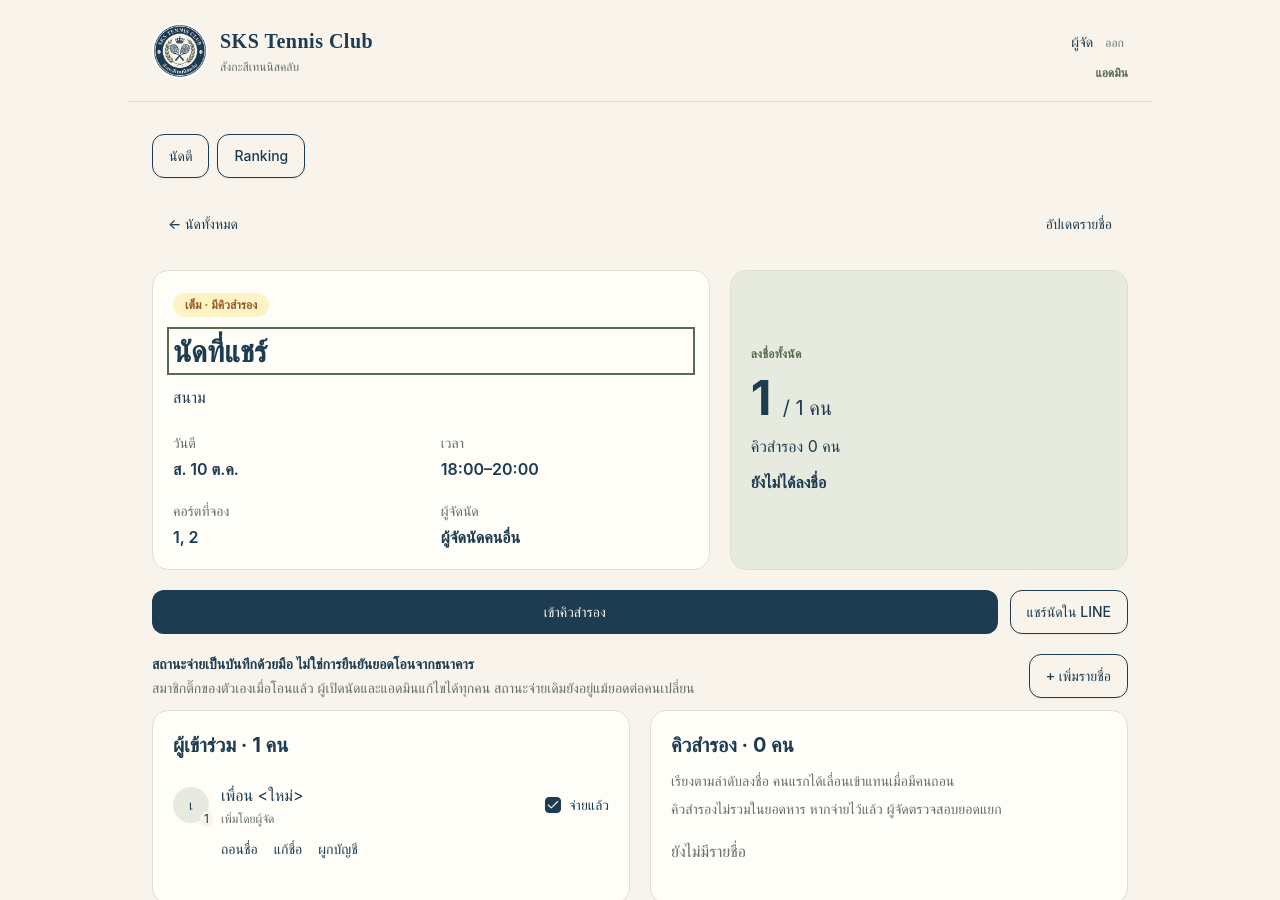
Test case: admins see their role and can manage other organizers' payments while respecting ended events (false)
This screenshot has width=1280, height=900.
Expected: the heading "นัดที่แชร์" is shown, [173,333,267,369]
Expected: the text "แอดมิน" is shown, [1096,65,1128,80]
Click the checkbox named "จ่ายแล้ว: เพื่อน <ใหม่>" at (553, 805), box [545,797,561,813]
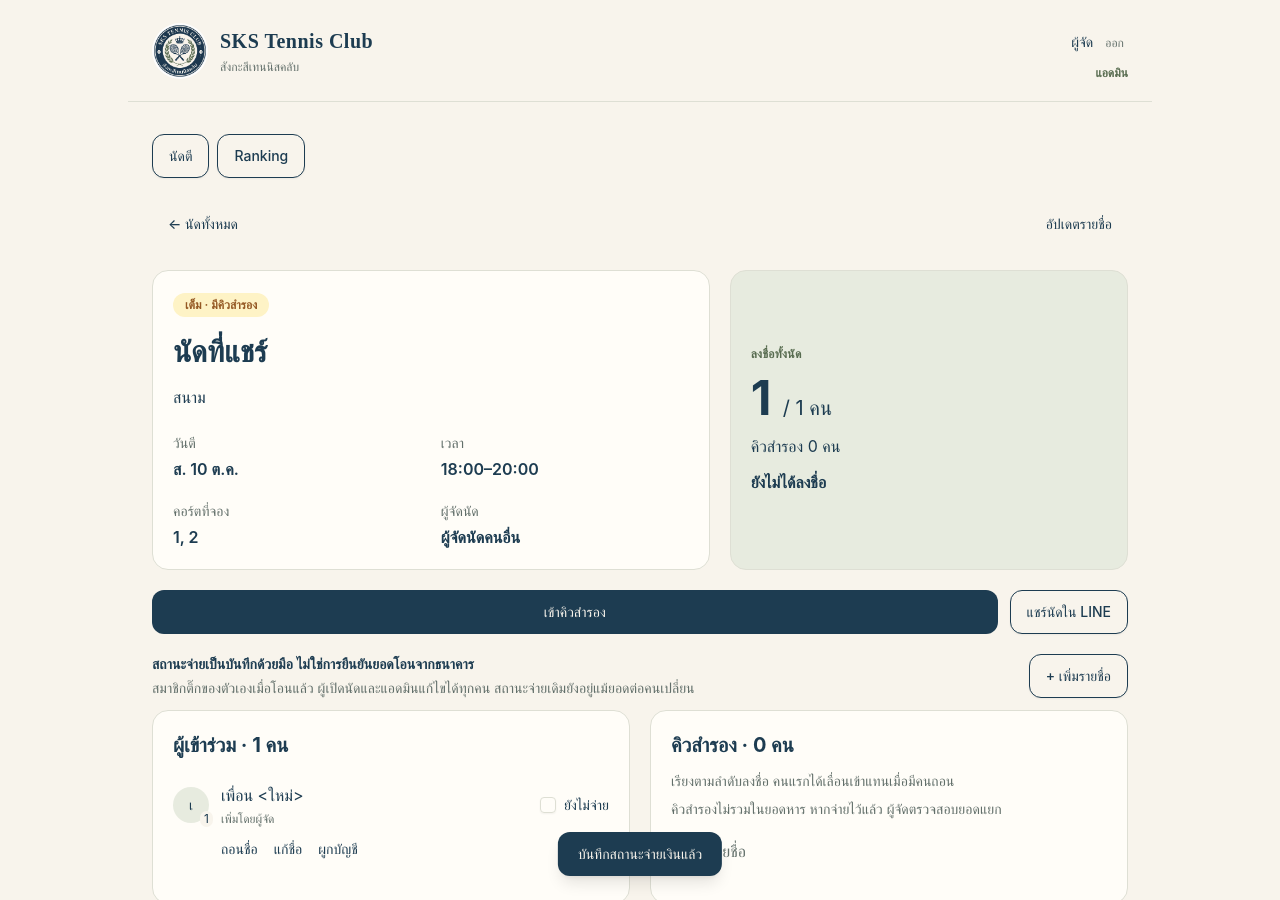
Result: the text "บันทึกสถานะจ่ายเงินแล้ว" is shown at [558,832,722,876]
